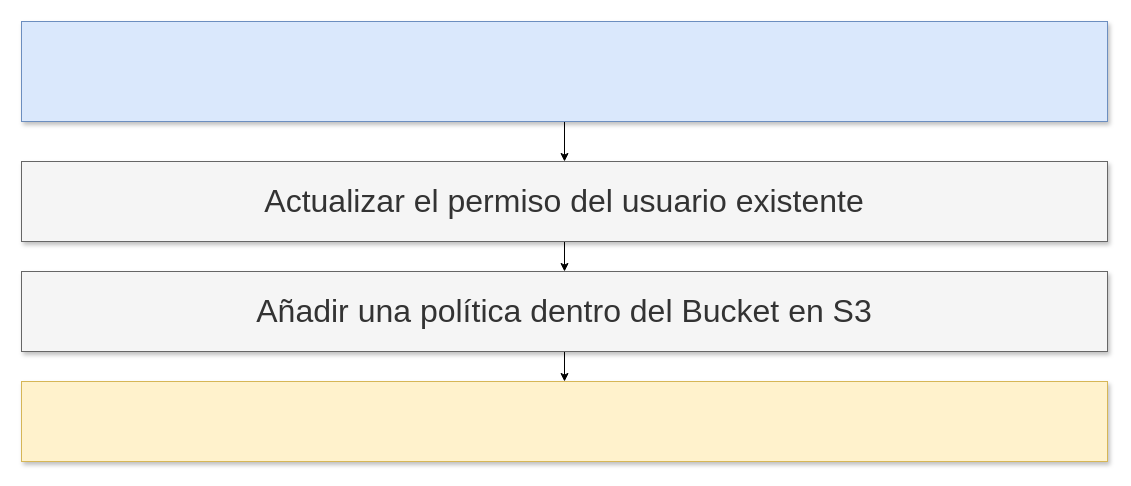
The diagram is 1131 pixels wide and 486 high, and some of its shapes have lost their labels. The centre of each missing label's shape, as x and y in pixels:
"Configurar CloudFront" goes at (x=565, y=422).
"Pasos a seguir" goes at (x=565, y=72).
